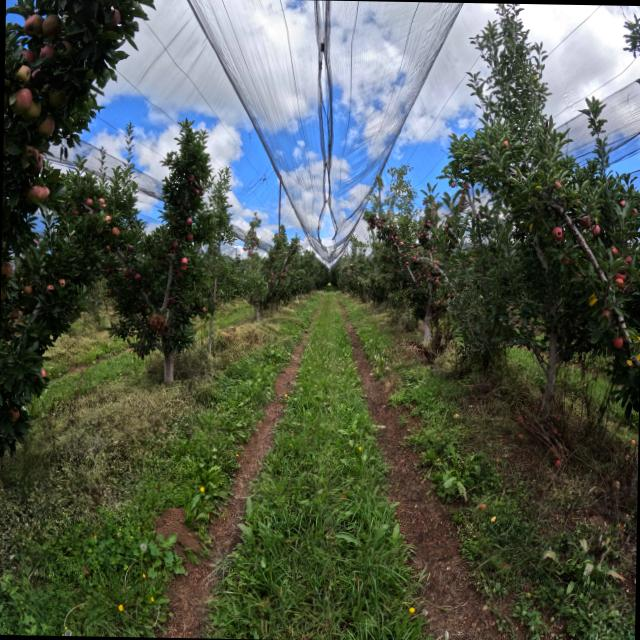-FireBlight-: (148, 313, 165, 333)
